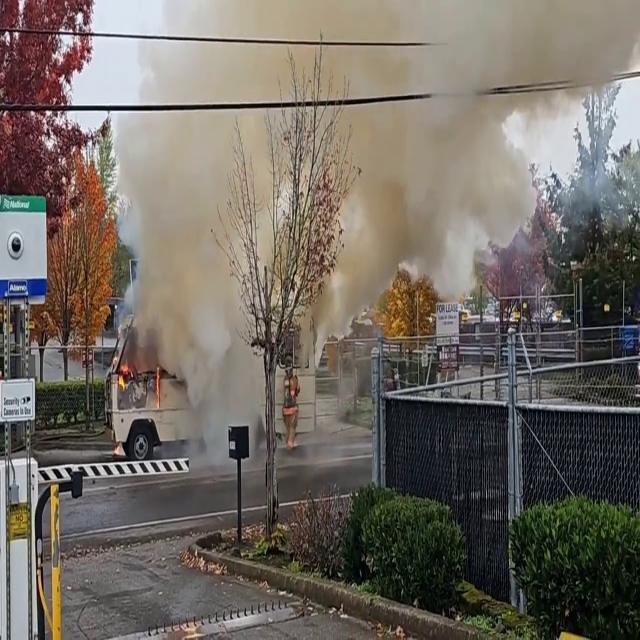Fire: (114, 358, 134, 392)
Smoke: (126, 0, 640, 311)
